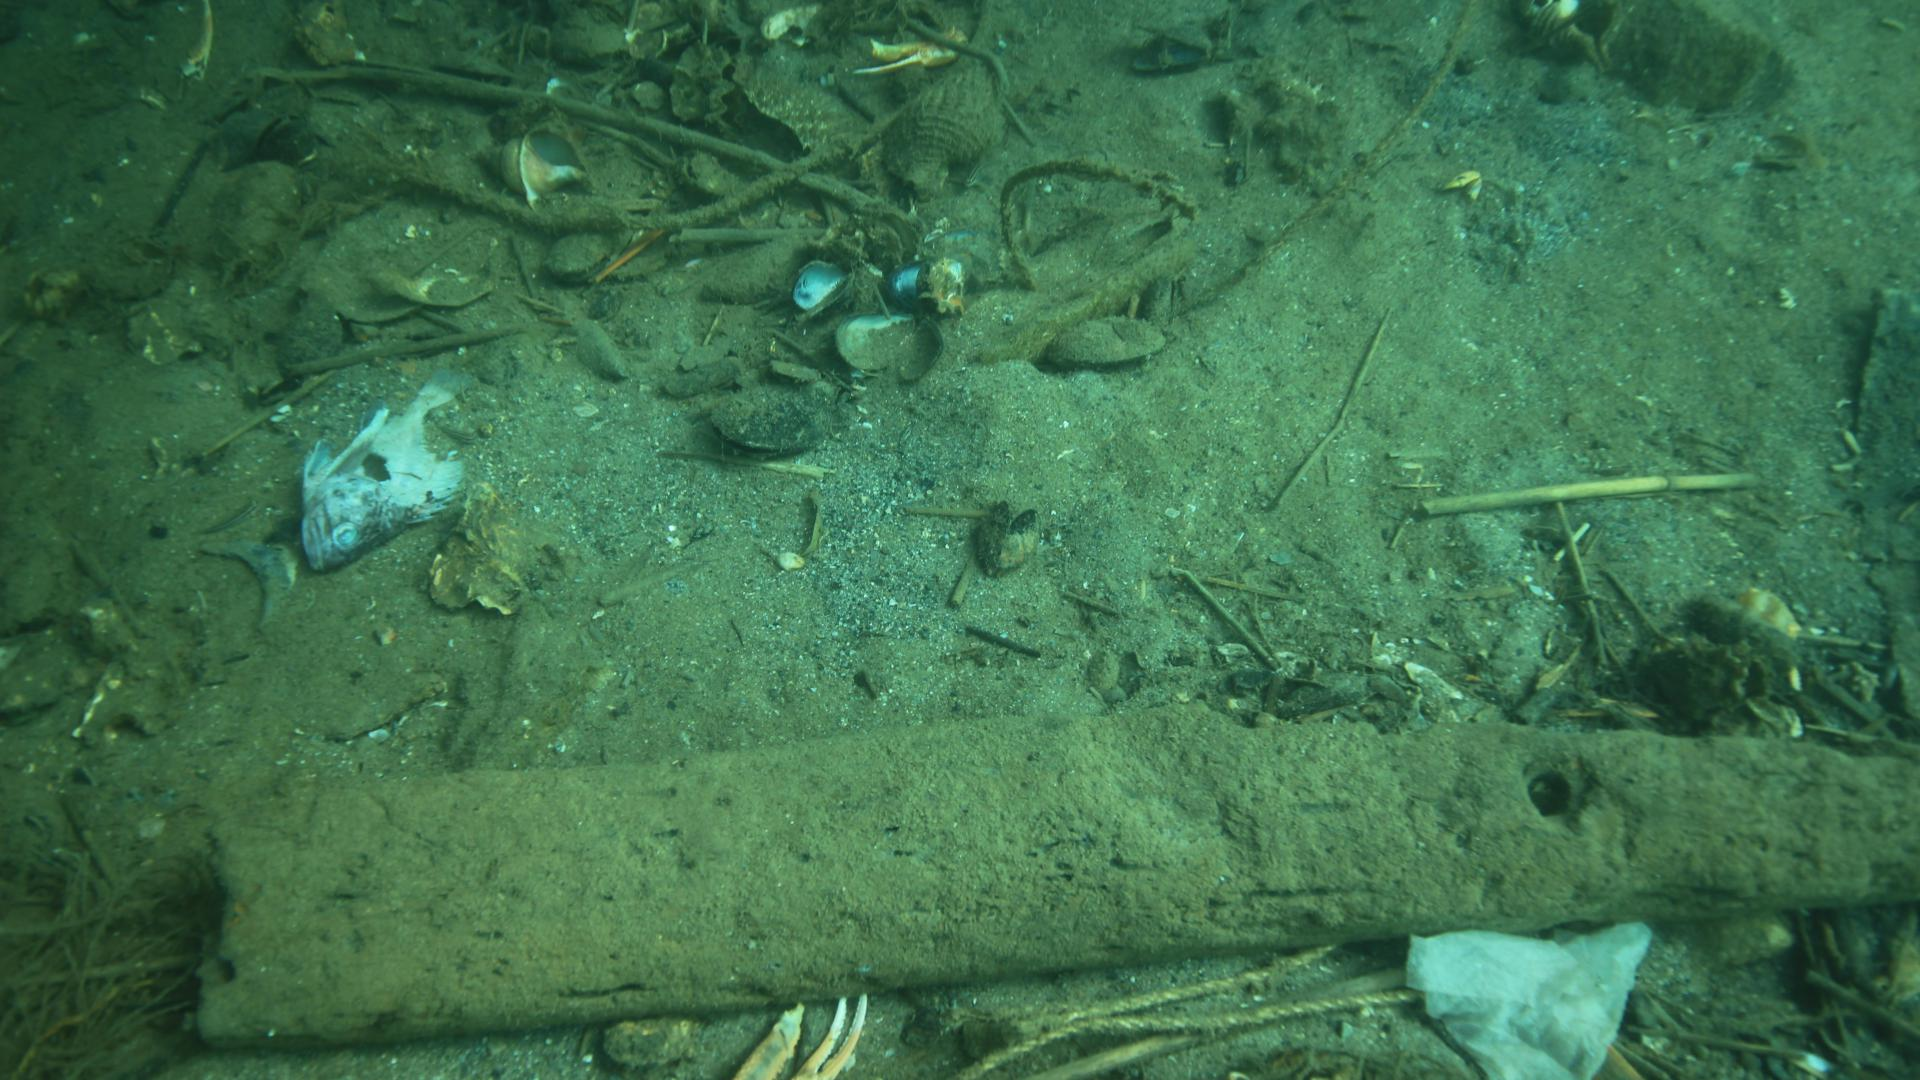bundle of ropes: (942, 942, 1420, 1080)
wood: (178, 698, 1920, 1048)
